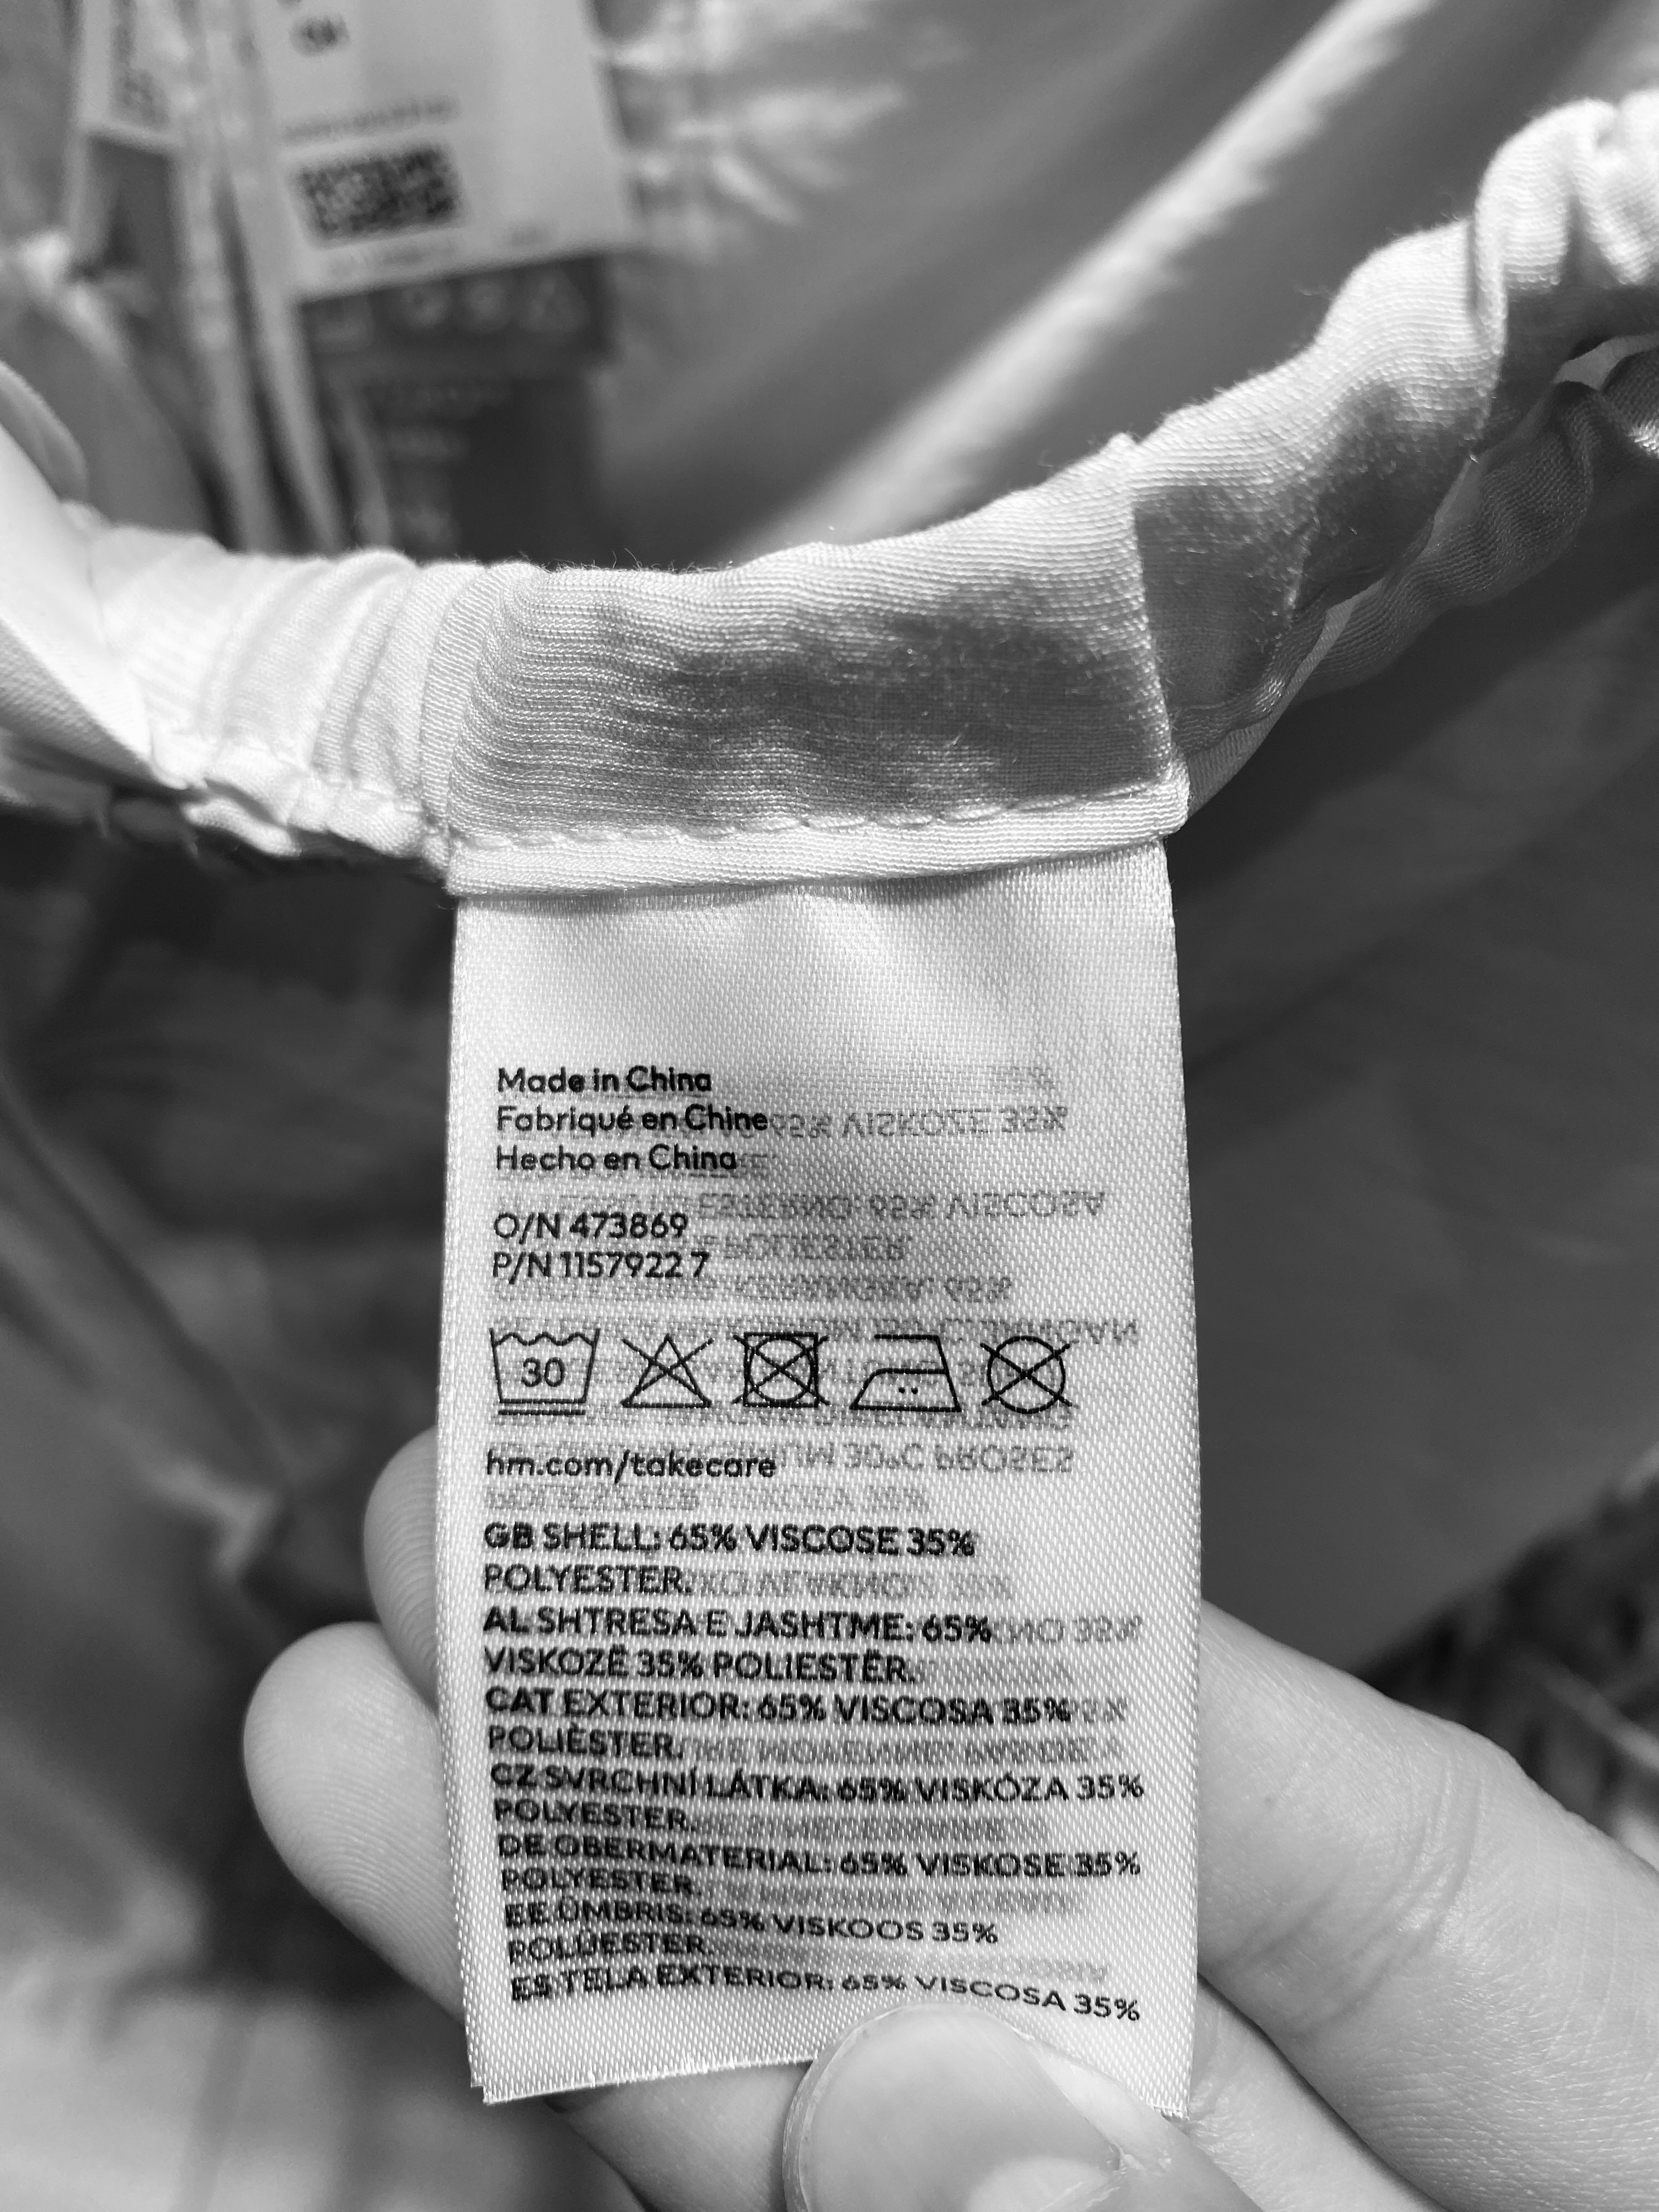icon: (481, 1322, 603, 1425), (847, 1329, 967, 1418), (725, 1329, 836, 1413), (976, 1334, 1084, 1420), (613, 1327, 718, 1411)
